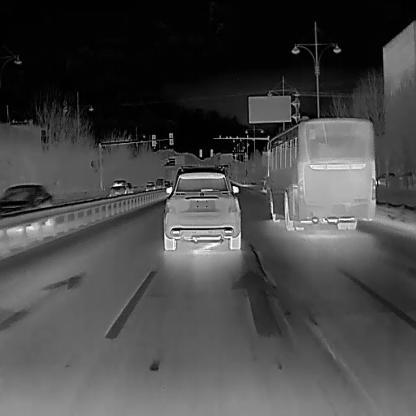car: (261, 116, 375, 232), (162, 165, 241, 251), (0, 181, 57, 235), (109, 178, 129, 195), (377, 170, 396, 185), (155, 176, 164, 189), (145, 180, 155, 190), (164, 179, 171, 187)
